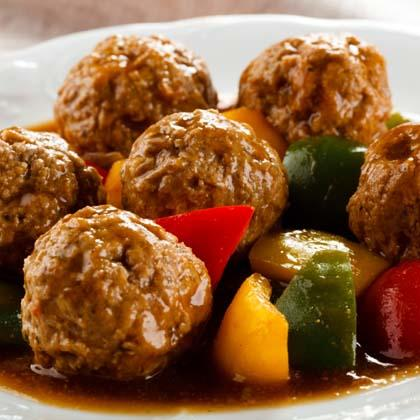meatballs: (1, 26, 420, 256), (24, 210, 223, 393)
